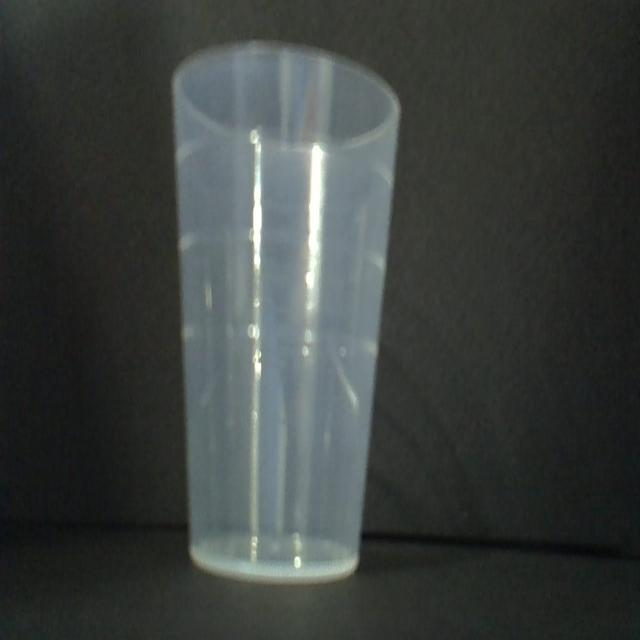cup: (169, 41, 404, 588)
